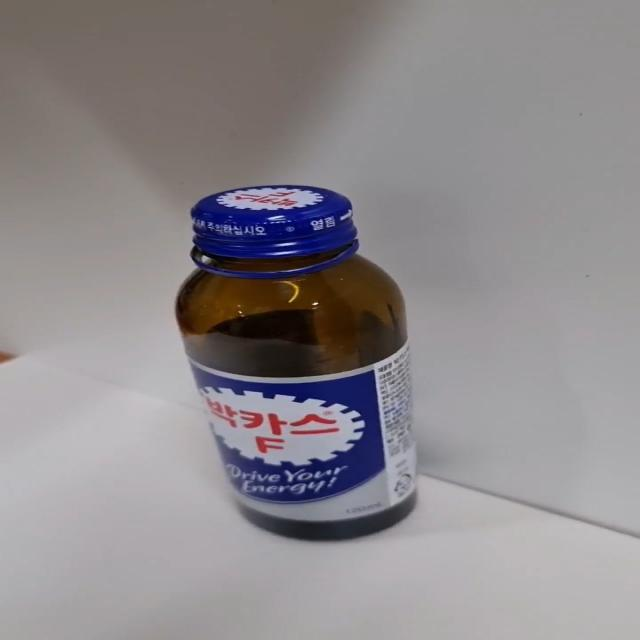Glass: (175, 186, 418, 544)
